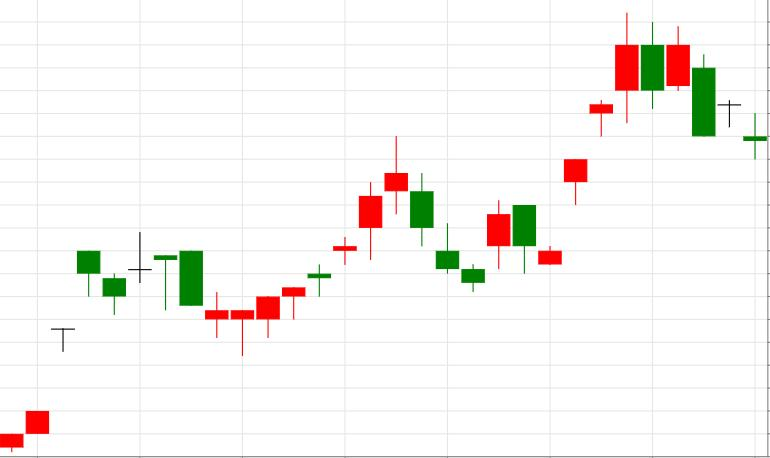evening_star_fall: (206, 135, 433, 357)
